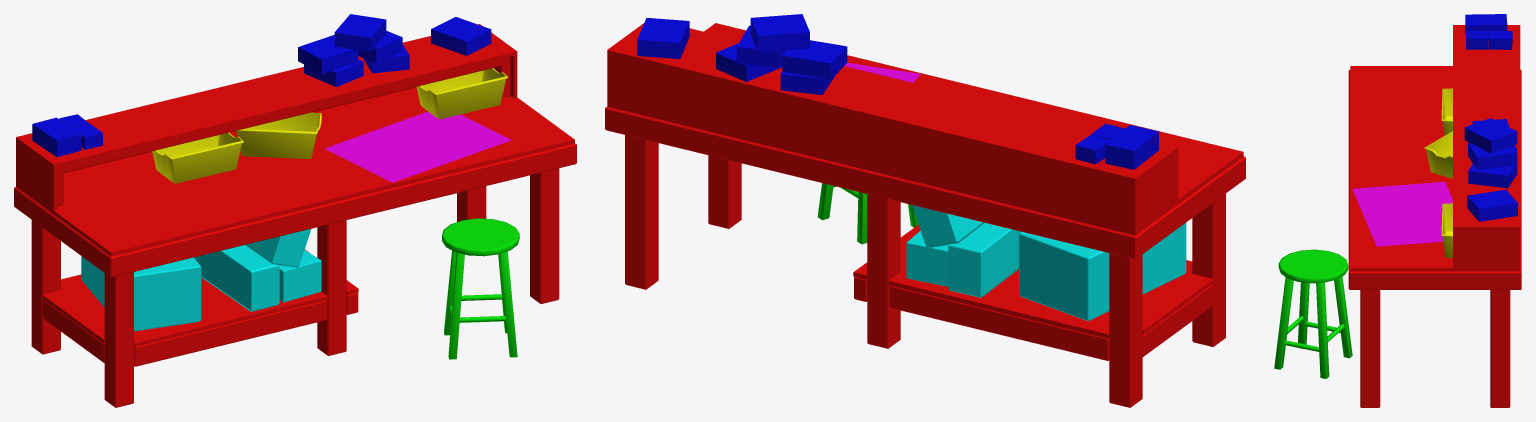
File: nana_workbench.fbx
3 views of the same model, side by side, from view 1: azimuth 30°, elevation 25°; view 2: azimuth 150°, elevation 25°; view 3: azimuth 270°, elevation 25° (orthographic). The views are drawn at different scales.
Visible parts, largest first — view 1: workbench, boxes_01, baskets, boxes_02, blueprints, stool; view 2: workbench, boxes_01, boxes_02, stool; view 3: workbench, boxes_02, stool, blueprints, baskets.
Boxes of the visible parts, bbox=[...] form: workbench: bbox=[14, 24, 576, 407]; boxes_01: bbox=[81, 229, 321, 331]; baskets: bbox=[152, 68, 507, 183]; boxes_02: bbox=[32, 14, 491, 156]; blueprints: bbox=[324, 111, 511, 182]; stool: bbox=[442, 218, 519, 359]; workbench: bbox=[605, 23, 1245, 407]; boxes_01: bbox=[906, 205, 1186, 321]; boxes_02: bbox=[637, 14, 1158, 169]; stool: bbox=[817, 183, 918, 244]; workbench: bbox=[1348, 25, 1521, 407]; boxes_02: bbox=[1464, 14, 1517, 221]; stool: bbox=[1274, 249, 1352, 378]; blueprints: bbox=[1352, 181, 1452, 246]; baskets: bbox=[1424, 88, 1452, 258].
Bounding box in the file's own units: 245 × 126 × 126.
